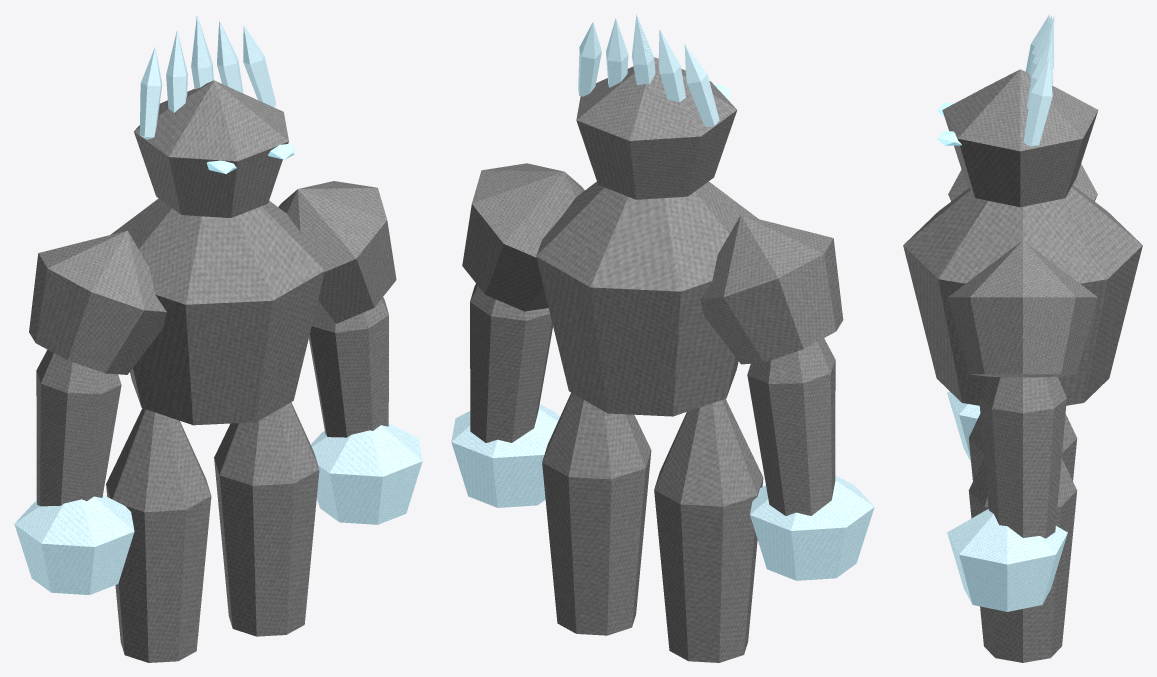
File: deep-fracture-creature-StoneGuardian-frost.glb
3 views of the same model, side by side, from view 1: azimuth 30°, elevation 25°; view 2: azimuth 150°, elevation 25°; view 3: azimuth 270°, elevation 25° (orthographic). The views are drawn at different scales.
Visible parts, largest first — view 1: fortress-chest, gate-leg-left, gate-leg-right, crown, shoulder-left, pillar-arm-left, shoulder-right, fist-left, fist-right, pillar-arm-right, crown-spire0, crown-spire4 (+3 smaller); view 2: fortress-chest, gate-leg-left, gate-leg-right, shoulder-left, crown, pillar-arm-left, shoulder-right, pillar-arm-right, fist-left, fist-right, crown-spire0, crown-spire4 (+3 smaller); view 3: fortress-chest, shoulder-right, crown, pillar-arm-right, fist-right, gate-leg-right, crown-spire4, gate-leg-left, fist-left, shoulder-left, crown-spire3, crown-spire2.
Part boxes in pixels (x1=…): fortress-chest: x1=110, y1=198, x2=324, y2=425; gate-leg-left: x1=106, y1=408, x2=211, y2=662; gate-leg-right: x1=214, y1=402, x2=319, y2=636; crown: x1=134, y1=80, x2=288, y2=217; shoulder-left: x1=29, y1=230, x2=166, y2=374; pillar-arm-left: x1=36, y1=349, x2=121, y2=506; shoulder-right: x1=278, y1=181, x2=396, y2=323; fist-left: x1=14, y1=495, x2=134, y2=594; fist-right: x1=311, y1=423, x2=422, y2=524; pillar-arm-right: x1=309, y1=297, x2=388, y2=437; crown-spire0: x1=139, y1=47, x2=162, y2=139; crown-spire4: x1=243, y1=25, x2=275, y2=107; fortress-chest: x1=536, y1=181, x2=758, y2=416; gate-leg-left: x1=654, y1=399, x2=763, y2=662; gate-leg-right: x1=542, y1=392, x2=651, y2=635; shoulder-left: x1=700, y1=215, x2=843, y2=364; crown: x1=576, y1=57, x2=737, y2=199; pillar-arm-left: x1=747, y1=338, x2=835, y2=515; shoulder-right: x1=462, y1=163, x2=584, y2=311; pillar-arm-right: x1=470, y1=283, x2=552, y2=442; fist-left: x1=750, y1=475, x2=874, y2=580; fist-right: x1=451, y1=404, x2=559, y2=507; crown-spire0: x1=684, y1=44, x2=719, y2=126; crown-spire4: x1=578, y1=22, x2=601, y2=96; fortress-chest: x1=903, y1=185, x2=1142, y2=405; shoulder-right: x1=948, y1=240, x2=1097, y2=377; crown: x1=942, y1=69, x2=1098, y2=207; pillar-arm-right: x1=979, y1=376, x2=1066, y2=538; fist-right: x1=947, y1=509, x2=1067, y2=611; gate-leg-right: x1=968, y1=458, x2=1077, y2=662; crown-spire4: x1=1023, y1=57, x2=1052, y2=146; gate-leg-left: x1=968, y1=414, x2=1077, y2=480; fist-left: x1=947, y1=391, x2=980, y2=461; shoulder-left: x1=948, y1=164, x2=1097, y2=201; crown-spire3: x1=1026, y1=36, x2=1053, y2=109; crown-spire2: x1=1029, y1=16, x2=1054, y2=78.
Size of the model in its own units: 3.47 by 5.27 by 1.86.
Materials: 5 (5 with a texture image).
